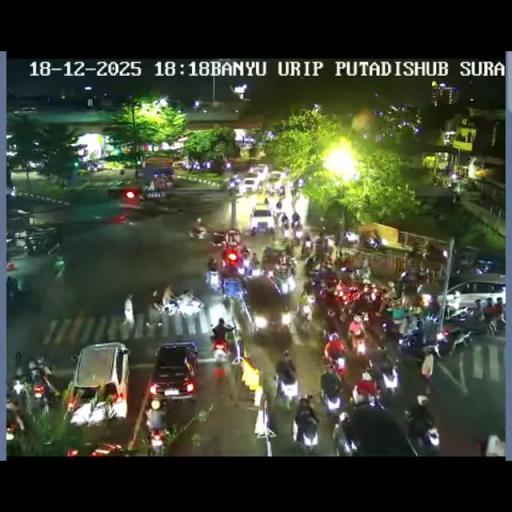Car: (66, 342, 130, 425), (5, 231, 65, 306), (148, 342, 199, 403), (442, 276, 505, 318), (108, 175, 162, 204), (248, 203, 274, 234), (264, 171, 286, 191), (240, 176, 263, 193), (250, 163, 268, 178), (172, 159, 190, 170)
Motorcycle: (314, 276, 399, 418), (208, 210, 310, 296), (406, 412, 440, 454), (430, 321, 464, 356), (293, 409, 320, 453), (349, 376, 382, 410), (316, 281, 350, 314), (226, 341, 246, 395), (274, 366, 300, 407), (374, 358, 400, 396), (332, 418, 358, 456), (381, 310, 410, 344), (319, 377, 343, 414), (5, 413, 25, 455), (323, 348, 347, 382), (292, 302, 314, 338), (350, 293, 376, 323), (474, 431, 504, 455), (8, 376, 28, 410), (30, 367, 48, 404), (146, 288, 162, 328), (486, 306, 506, 337), (210, 332, 230, 362), (148, 422, 166, 454), (222, 246, 243, 272), (348, 325, 366, 355), (398, 268, 425, 287), (204, 265, 222, 292), (158, 294, 180, 316), (262, 245, 280, 269), (334, 253, 357, 271), (244, 254, 260, 278), (52, 254, 66, 281), (339, 230, 359, 247), (384, 281, 398, 305), (354, 265, 372, 283), (302, 278, 316, 301), (188, 224, 209, 239), (178, 288, 193, 309), (253, 310, 268, 330), (364, 234, 382, 250), (280, 306, 293, 328), (305, 254, 318, 274), (460, 178, 478, 192), (285, 255, 297, 275), (14, 350, 24, 374), (474, 298, 486, 318), (25, 236, 38, 254), (300, 242, 313, 259), (210, 232, 224, 247), (289, 232, 301, 249), (240, 244, 250, 261), (451, 188, 461, 204), (291, 216, 302, 230), (280, 216, 290, 230), (228, 179, 238, 193), (324, 234, 334, 248), (291, 184, 299, 201), (274, 200, 282, 216), (297, 178, 304, 188), (263, 197, 268, 204)
